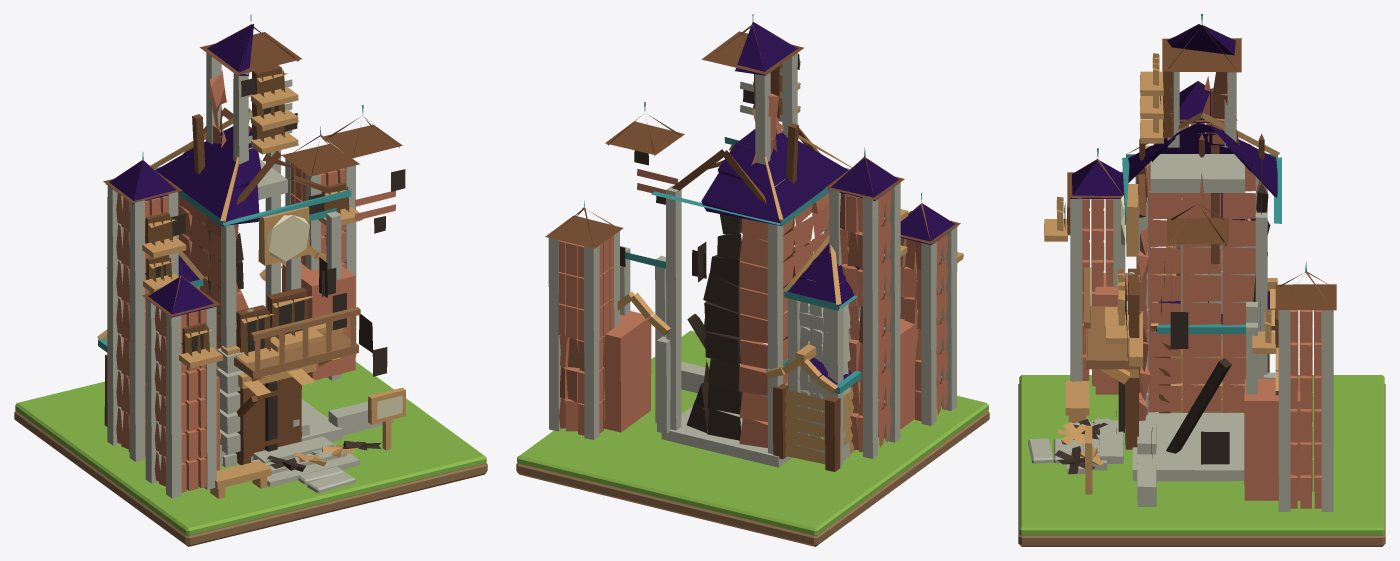
Rendered from town_hall_l15_damaged_LOD2.glb.
3 renders of one model, left to right at view 1: azimuth 30°, elevation 25°; view 2: azimuth 150°, elevation 25°; view 3: azimuth 270°, elevation 25°, orthographic. The views are drawn at different scales.
Visible parts, largest first — view 1: town_hall_l15_damaged_foundation.001, town_hall_l15_damaged_grass_tile.001, town_hall_l15_damaged_earth_tile.001, town_hall_l15_damaged_path_stone.005; view 2: town_hall_l15_damaged_foundation.001, town_hall_l15_damaged_grass_tile.001, town_hall_l15_damaged_earth_tile.001; view 3: town_hall_l15_damaged_foundation.001, town_hall_l15_damaged_grass_tile.001, town_hall_l15_damaged_earth_tile.001, town_hall_l15_damaged_path_stone.005.
Part boxes in pixels (bbox=[...]): town_hall_l15_damaged_foundation.001: bbox=[97, 14, 405, 498]; town_hall_l15_damaged_grass_tile.001: bbox=[15, 361, 486, 535]; town_hall_l15_damaged_earth_tile.001: bbox=[14, 411, 487, 546]; town_hall_l15_damaged_path_stone.005: bbox=[307, 472, 355, 493]; town_hall_l15_damaged_foundation.001: bbox=[545, 14, 963, 471]; town_hall_l15_damaged_grass_tile.001: bbox=[517, 330, 988, 535]; town_hall_l15_damaged_earth_tile.001: bbox=[516, 411, 989, 546]; town_hall_l15_damaged_foundation.001: bbox=[1044, 14, 1336, 511]; town_hall_l15_damaged_grass_tile.001: bbox=[1019, 375, 1384, 535]; town_hall_l15_damaged_earth_tile.001: bbox=[1018, 384, 1385, 546]; town_hall_l15_damaged_path_stone.005: bbox=[1028, 438, 1053, 463].
Size of the model in its own units: 3.6 by 4.94 by 3.6.
